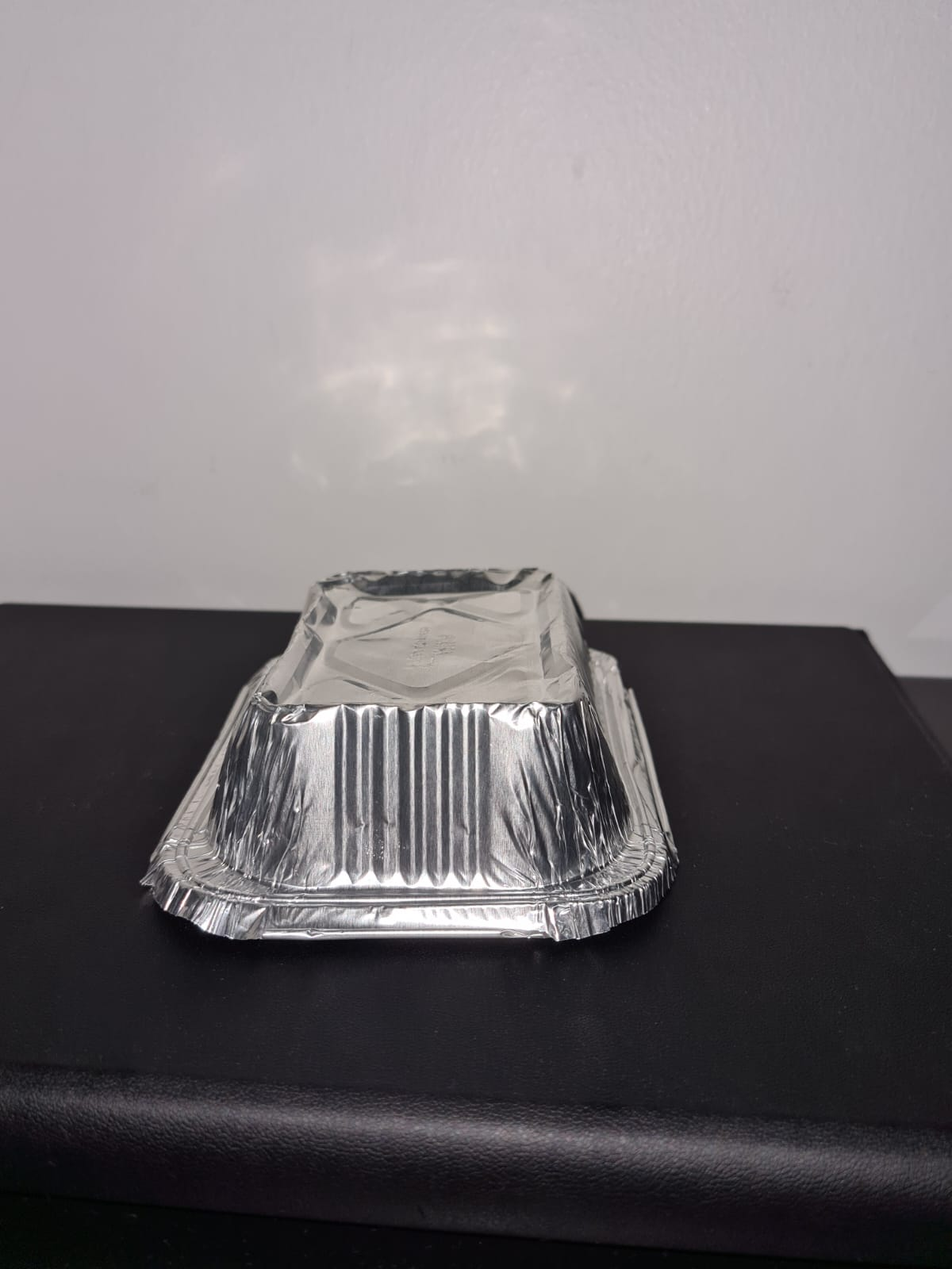Metal: (146, 540, 669, 966)
